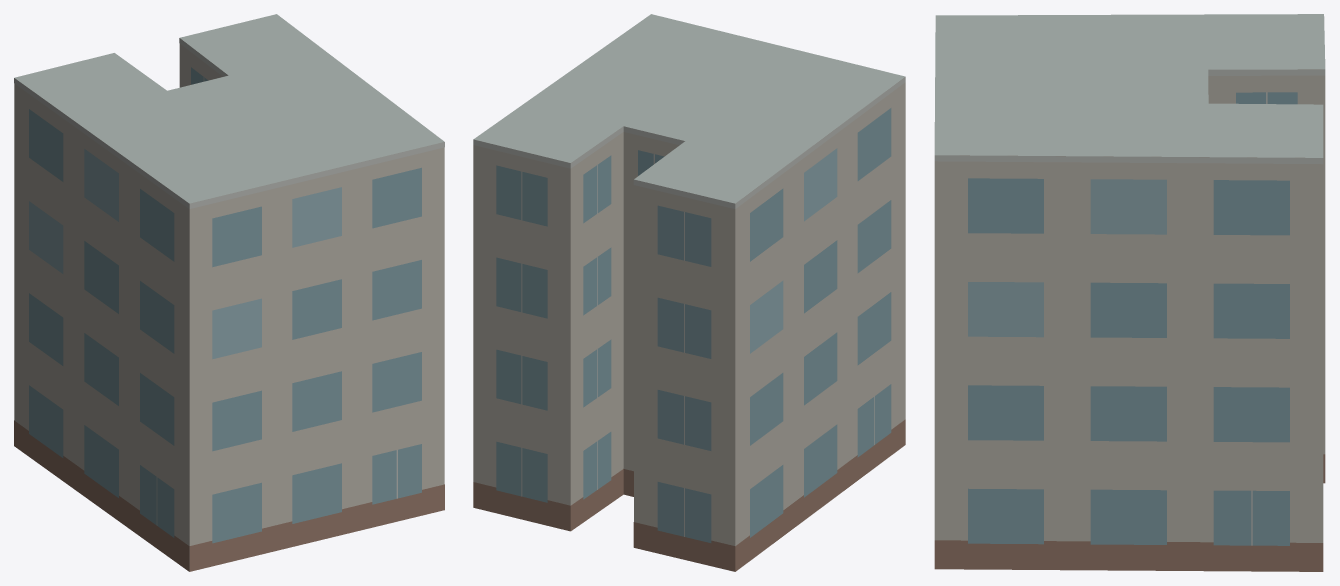
Rendered from survey-upis-32838248.glb.
3 views of the same model, side by side, from view 1: azimuth 30°, elevation 25°; view 2: azimuth 150°, elevation 25°; view 3: azimuth 270°, elevation 25° (orthographic). The views are drawn at different scales.
Visible parts, largest first — view 1: survey-upis-32838248.tmp; view 2: survey-upis-32838248.tmp; view 3: survey-upis-32838248.tmp.
Part boxes in pixels (<box>): survey-upis-32838248.tmp: <box>14,14,444,571</box>; survey-upis-32838248.tmp: <box>473,14,905,571</box>; survey-upis-32838248.tmp: <box>934,14,1325,571</box>.
Bounding box in the file's own units: 12.05 × 16.15 × 13.83.
